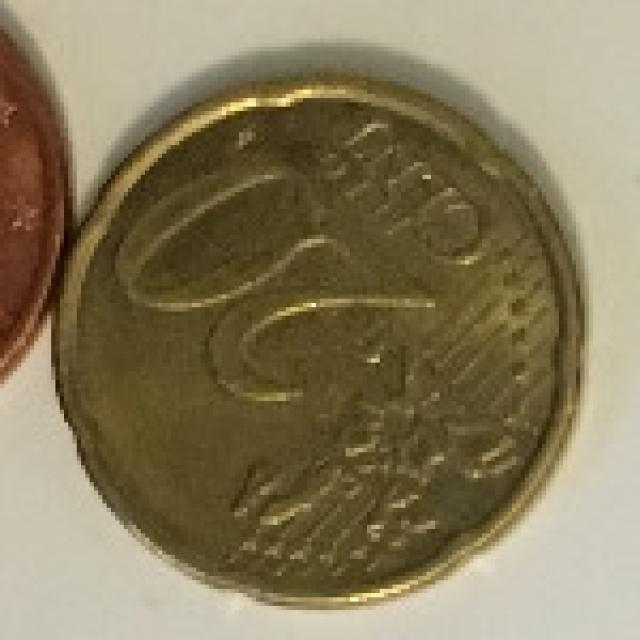20c: (42, 51, 610, 632)
